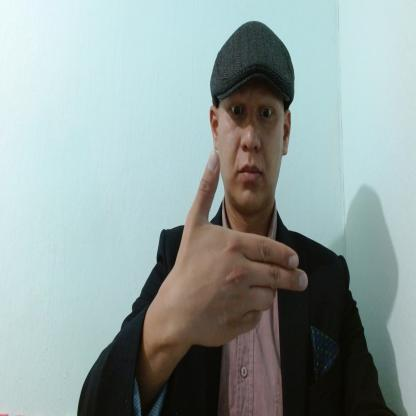H: (180, 152, 309, 346)
